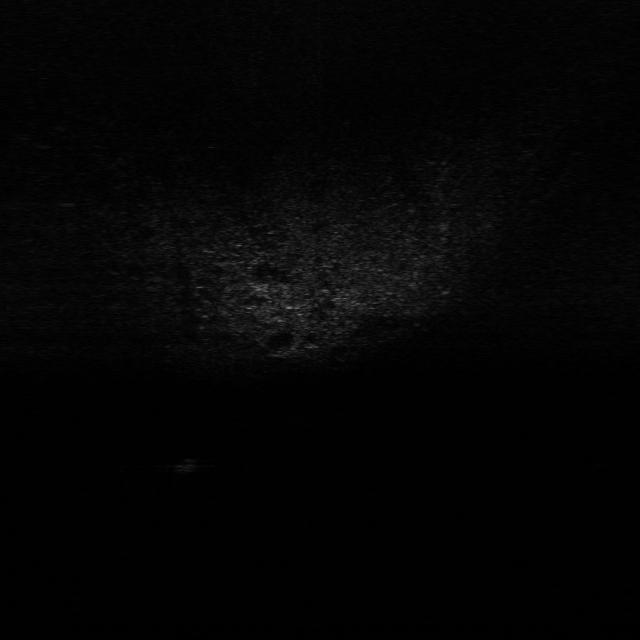cylinder: (170, 453, 202, 476)
